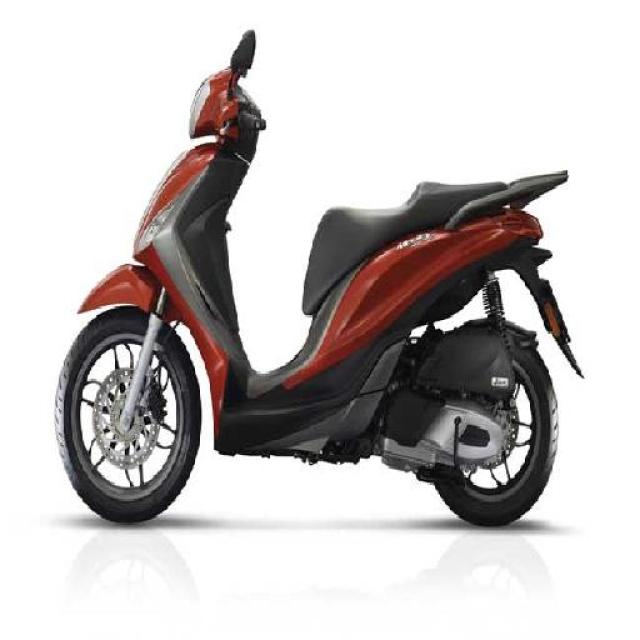All: (47, 34, 581, 531)
Head: (184, 62, 271, 150)
Tail: (482, 167, 550, 250)
